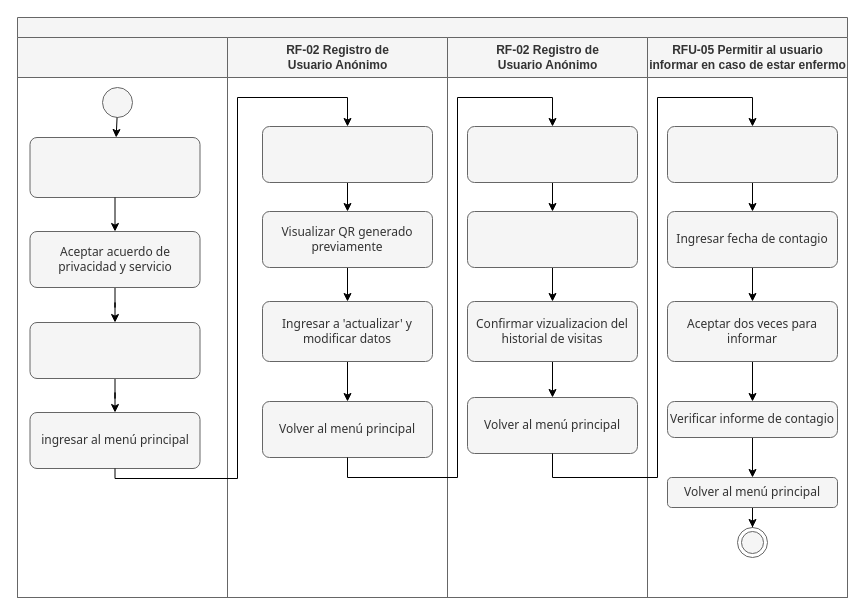
Image size: 865x615. Some labels were removed from this diagram. The box of each missing label's shape, as (x1, y1, x2, y2) in pixels:
Esperar a que se reciba usuario: (29, 322, 200, 378)
Esperar respuesta del servidor: (466, 210, 638, 268)
Generar QR: (262, 126, 432, 182)
Informar de enfermo: (666, 126, 838, 182)
Ingresar a la aplicación SCAEI: (29, 136, 200, 198)
RD-01 Aceptación de Acuerdo RF-02 Registro de Usuario Anónimo: (16, 36, 228, 598)
Visualizar historial de visitas: (466, 126, 638, 182)
